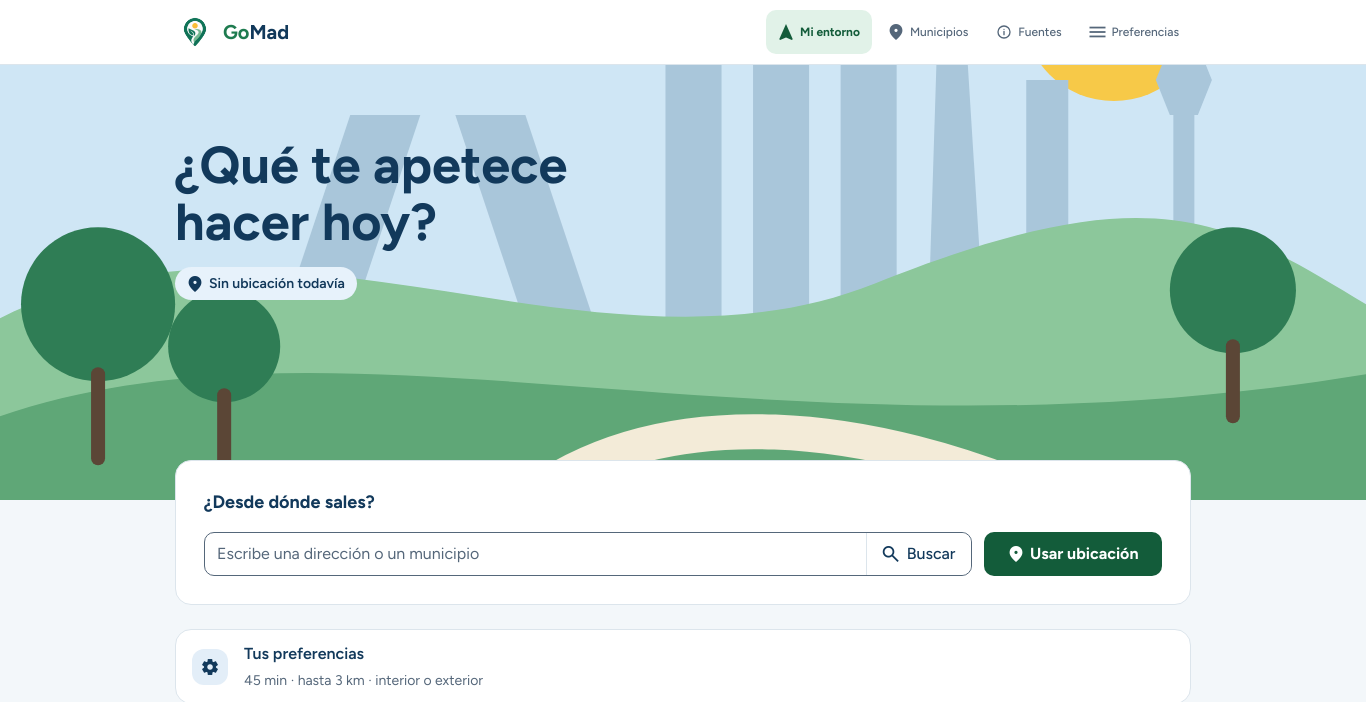
Test: Inicio › usar mi ubicacion pone la ubicacion en el campo y permite borrarla
Click the button with aria-label "Usar mi ubicación": (1073, 554) [984,532,1162,576]
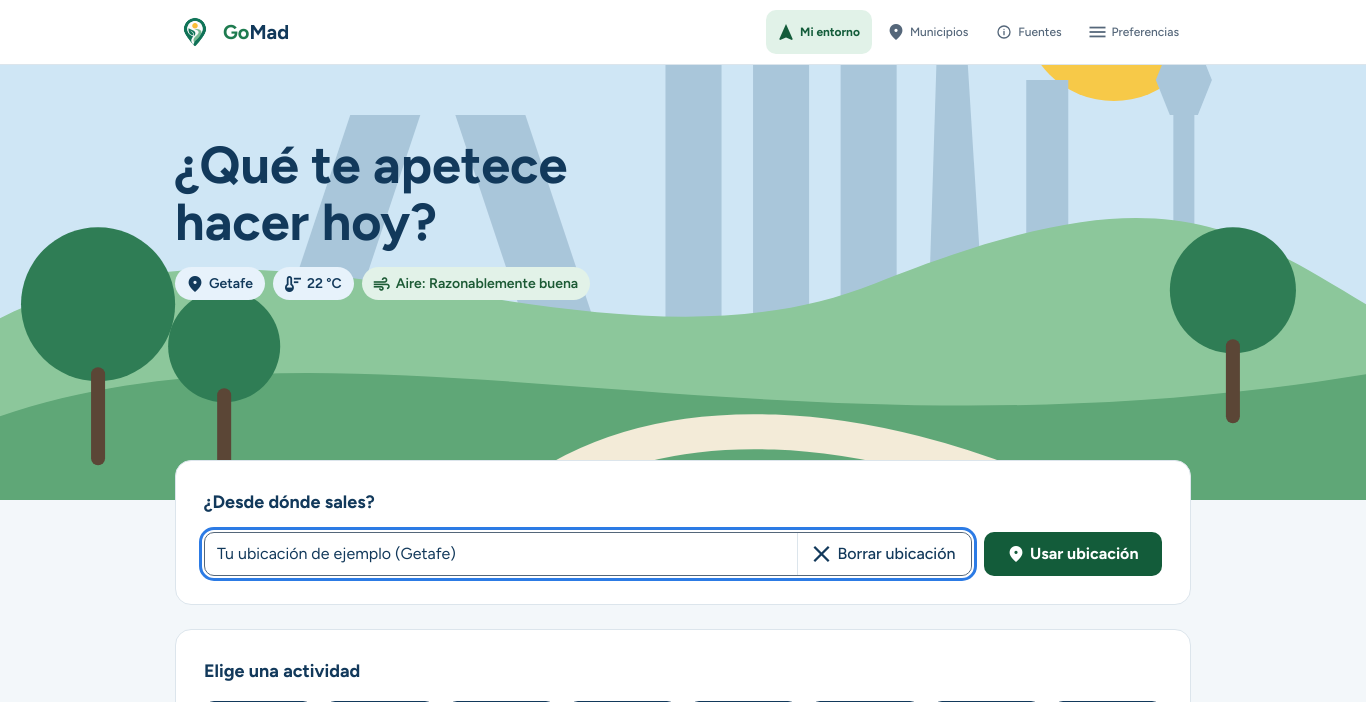
Result: the field showing "Tu ubicación de ejemplo (Getafe)" is shown at [205,533,796,575]
Result: the icon with class "icon-close" is shown at [814,546,830,562]
Click the button "Borrar ubicación": (884, 554) [796,533,971,575]
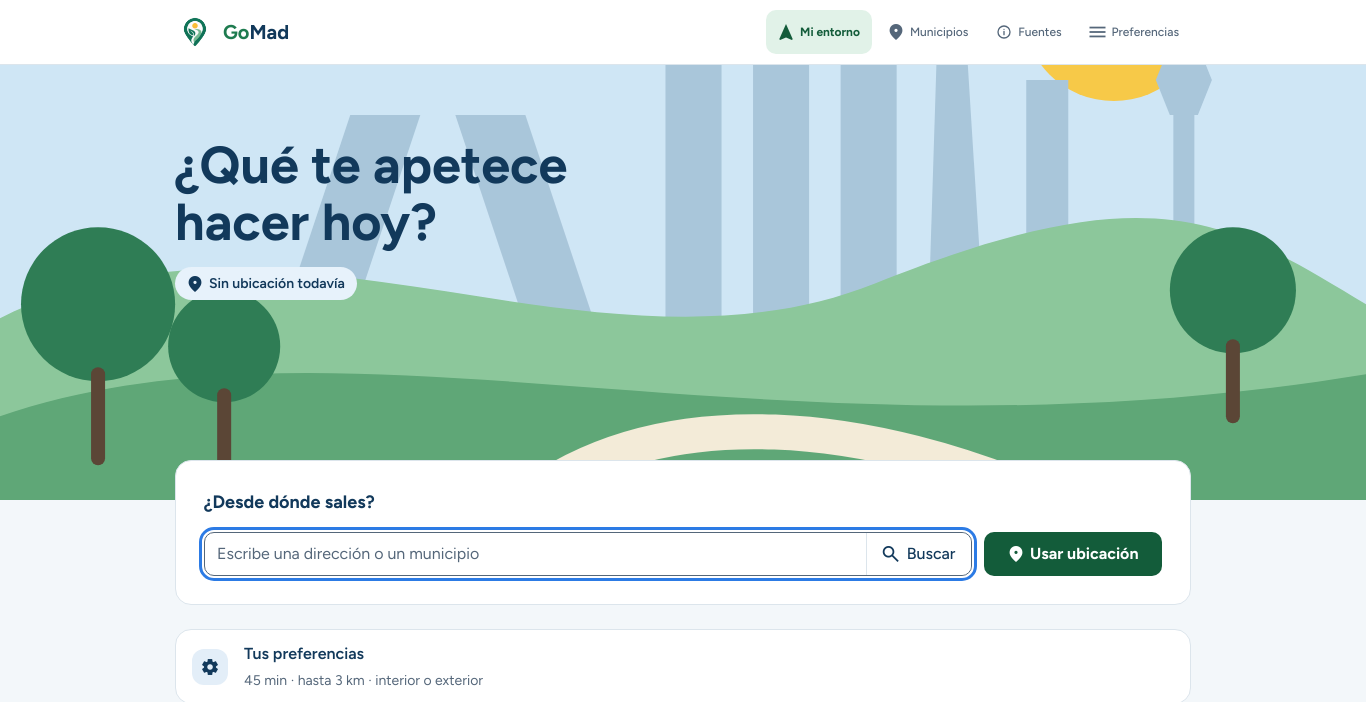
Result: the field labelled "Escribe una dirección o un municipio" is empty at [205,533,866,575]
Result: the button "Buscar" is shown at [866,533,971,575]
Result: the heading "Elige una actividad" is gone
